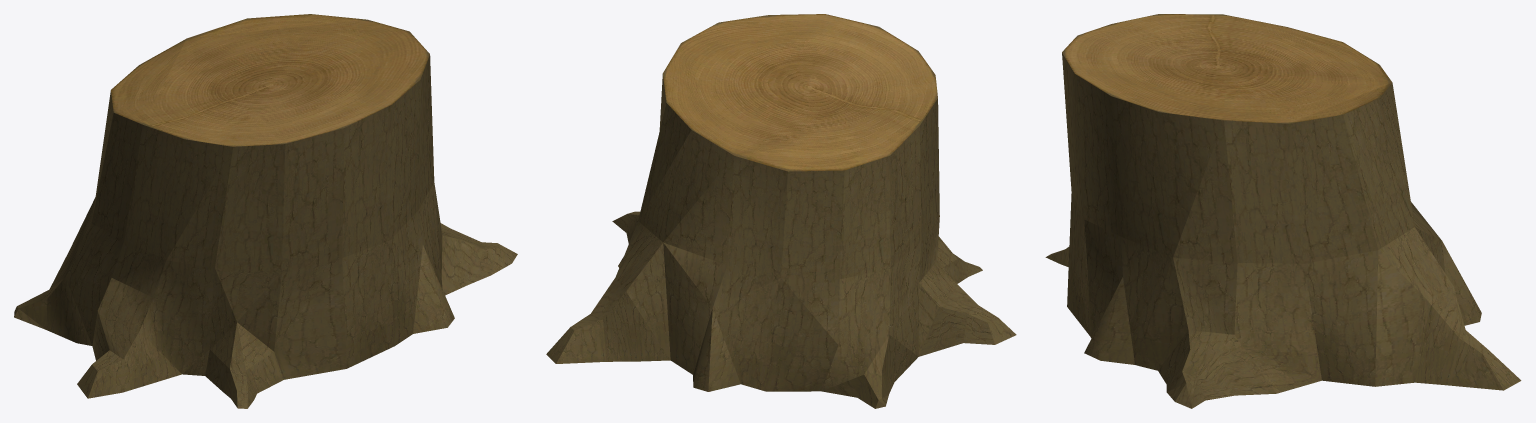
Rendered from Small Stump.obj.
The picture shows the model from 3 angles, left to right: view 1: azimuth 30°, elevation 25°; view 2: azimuth 150°, elevation 25°; view 3: azimuth 270°, elevation 25°; orthographic projection. The views are drawn at different scales.
Parts seen in each view (by area): view 1: Mesh_0078.002; view 2: Mesh_0078.002; view 3: Mesh_0078.002.
Part boxes in pixels (box(x1,y1,x2,y2)): Mesh_0078.002: box(14, 14, 517, 408); Mesh_0078.002: box(546, 14, 1016, 408); Mesh_0078.002: box(1045, 14, 1521, 408).
Bounding box in the file's own units: 16.43 × 9.91 × 14.84.
Materials: 2 (2 with a texture image).
